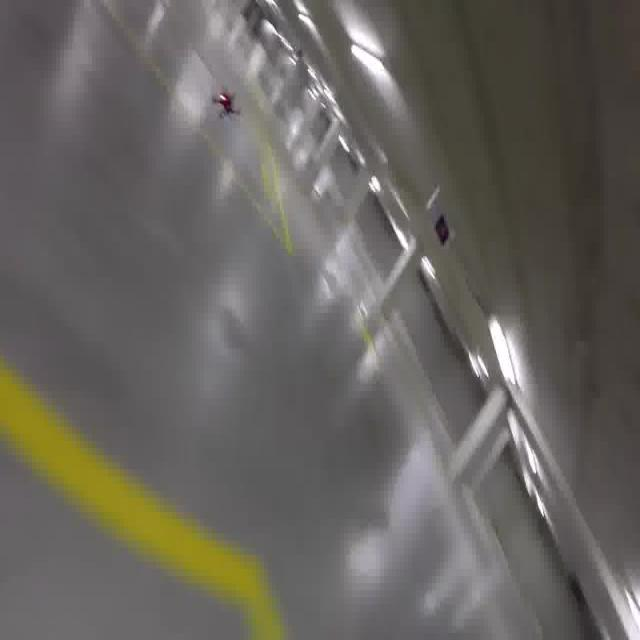drone: (212, 79, 241, 125)
